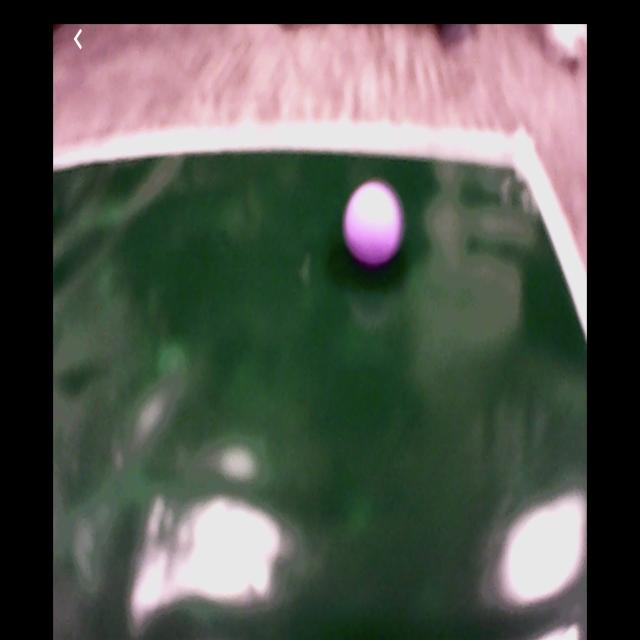ball: (342, 179, 406, 270)
